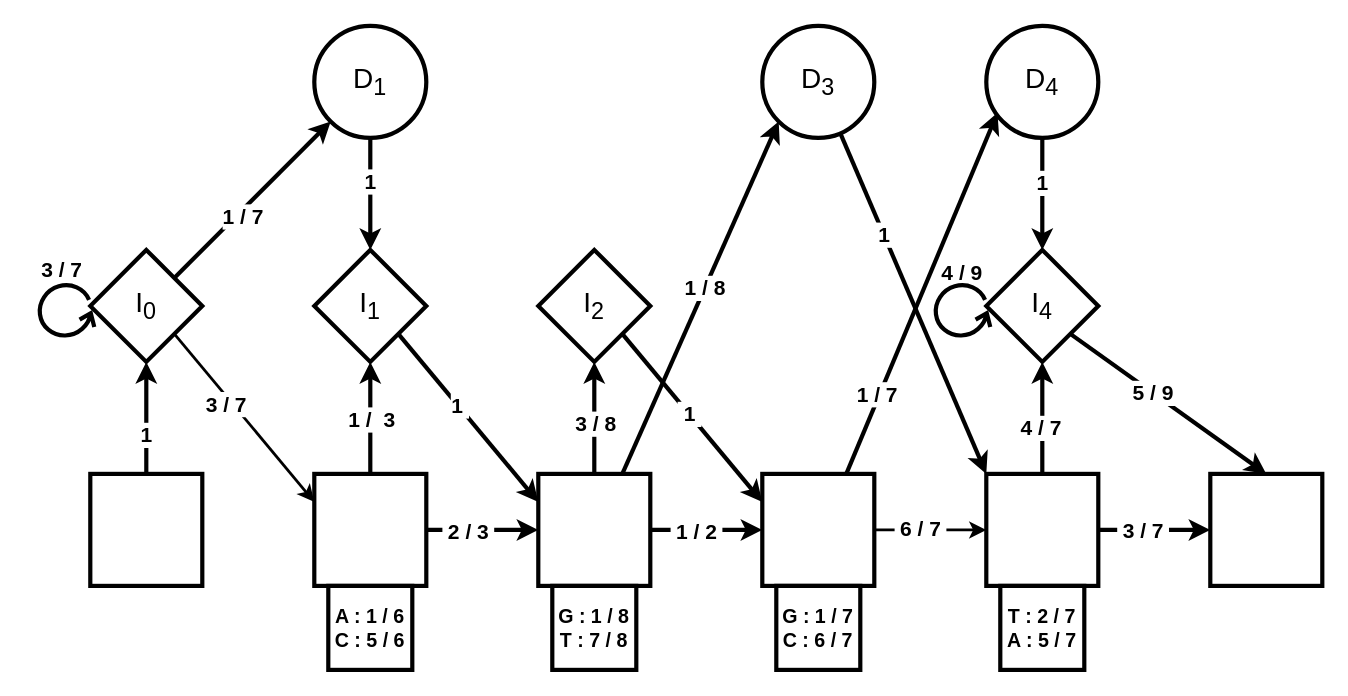
Image size: 1348x696. Some labels were removed from this diagram. Here are the shapes that lost their labels. From the top down, the centre of each, then its label:
At pixel 146 529: "Begin".
At pixel 370 529: "M 1".
At pixel 594 529: "M 2".
At pixel 818 529: "M 3".
At pixel 1041 529: "M 4".
At pixel 1266 529: "END".
